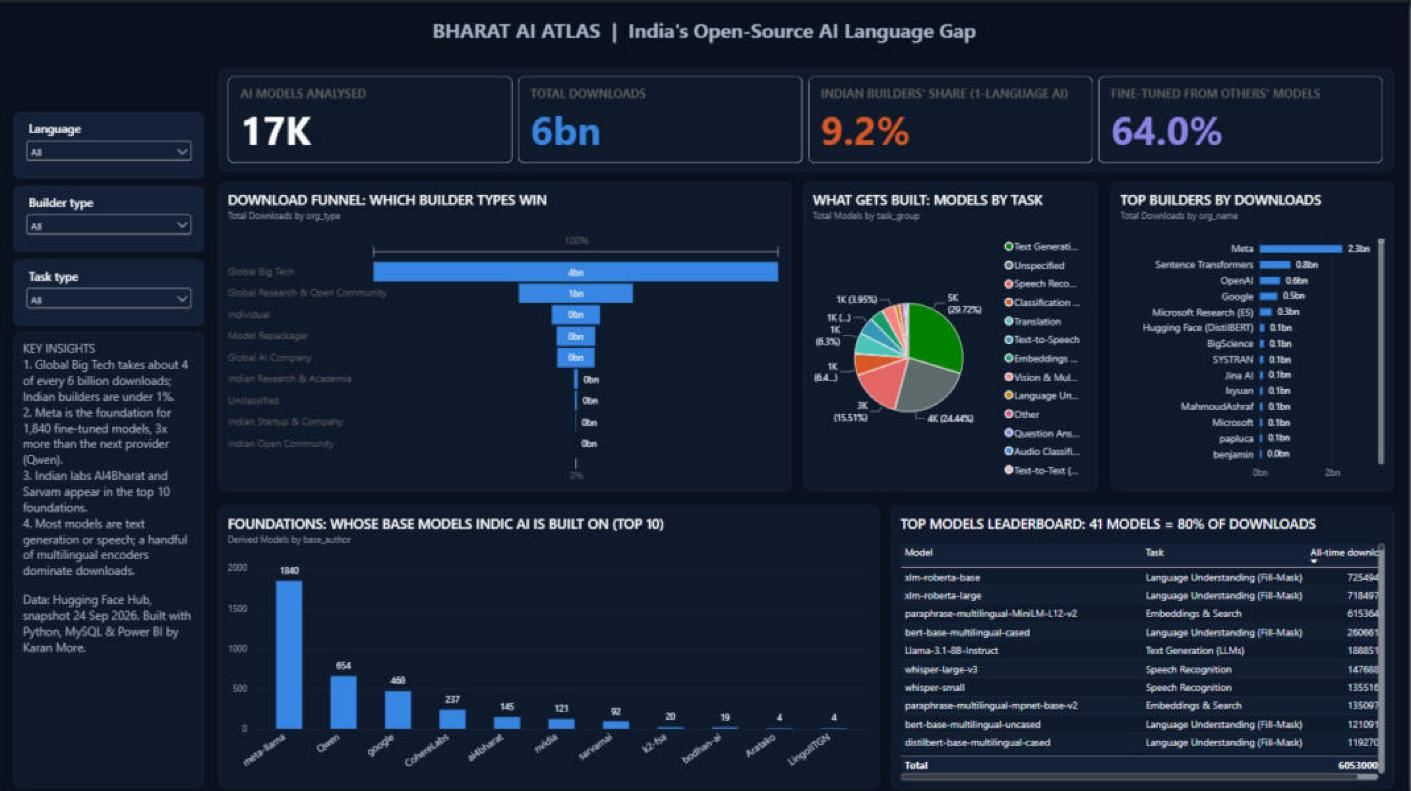

The dashboard page shown, as its layout file describes it:
{"tool":"powerbi","page":{"name":"Builders & Foundations","canvas":[1920,1080],"ordinal":1},"visuals":[{"type":"textbox","box":[20,10,1880,70],"z":0},{"type":"cardVisual","fields":{"Data":["_Measures.Total Models","_Measures.Total Downloads","_Measures.Indian Share (Dedicated)","_Measures.Derivative %"]},"box":[300,90,1600,140],"z":1000},{"type":"slicer","fields":{"Values":["languages.lang_name"]},"box":[20,150,260,90],"z":2000},{"type":"slicer","fields":{"Values":["organizations.org_type"]},"box":[20,250,260,90],"z":3000},{"type":"slicer","fields":{"Values":["models.task_group"]},"box":[20,350,260,90],"z":4000},{"type":"funnel","title":"DOWNLOAD FUNNEL: WHICH BUILDER TYPES WIN","fields":{"Category":["organizations.org_type"],"Y":["_Measures.Total Downloads"]},"box":[300,245,780,420],"z":5000},{"type":"pieChart","title":"WHAT GETS BUILT: MODELS BY TASK","fields":{"Category":["models.task_group"],"Y":["_Measures.Total Models"]},"box":[1095,245,400,420],"z":6000},{"type":"barChart","title":"TOP BUILDERS BY DOWNLOADS","fields":{"Category":["organizations.org_name"],"Y":["_Measures.Total Downloads"]},"box":[1515,245,385,420],"z":7000},{"type":"textbox","box":[20,450,260,620],"z":10000},{"type":"clusteredColumnChart","title":"FOUNDATIONS: WHOSE BASE MODELS INDIC AI IS BUILT ON (TOP 10)","fields":{"Category":["models.base_author"],"Y":["_Measures.Derived Models"]},"box":[300,685,900,385],"z":10001},{"type":"tableEx","title":"TOP MODELS LEADERBOARD: 41 MODELS = 80% OF DOWNLOADS","fields":{"Values":["models.model_name","models.task_group","Sum(models.downloads_all_time)"]},"box":[1215,685,685,385],"z":10002}]}

Visuals, with their boxes in screenshot pixels (x1, y1, x2, y2), scaled from the page's 1920x1080 canvas onto the 1411x791 screenshot:
textbox: Rect(15, 7, 1396, 59)
cardVisual - _Measures.Total Models x _Measures.Total Downloads: Rect(220, 66, 1396, 168)
slicer - languages.lang_name: Rect(15, 110, 206, 176)
slicer - organizations.org_type: Rect(15, 183, 206, 249)
slicer - models.task_group: Rect(15, 256, 206, 322)
"DOWNLOAD FUNNEL: WHICH BUILDER TYPES WIN" funnel: Rect(220, 179, 794, 487)
"WHAT GETS BUILT: MODELS BY TASK" pieChart: Rect(805, 179, 1099, 487)
"TOP BUILDERS BY DOWNLOADS" barChart: Rect(1113, 179, 1396, 487)
textbox: Rect(15, 330, 206, 784)
"FOUNDATIONS: WHOSE BASE MODELS INDIC AI IS BUILT ON (TOP 10)" clusteredColumnChart: Rect(220, 502, 882, 784)
"TOP MODELS LEADERBOARD: 41 MODELS = 80% OF DOWNLOADS" tableEx: Rect(893, 502, 1396, 784)
